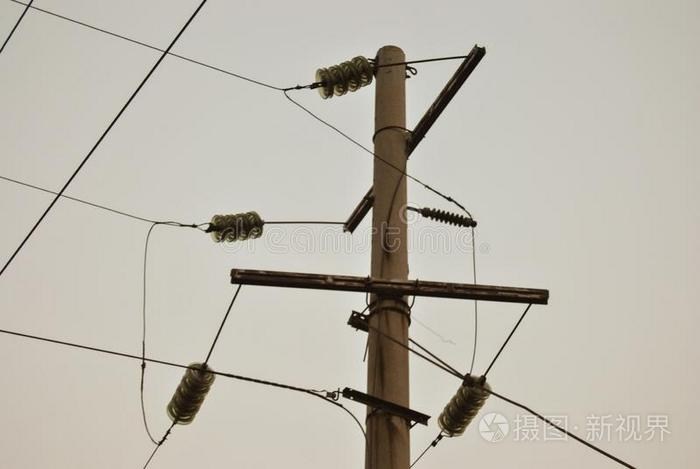insulator: (436, 375, 491, 435), (166, 362, 216, 425), (312, 55, 371, 100), (209, 208, 266, 246)
